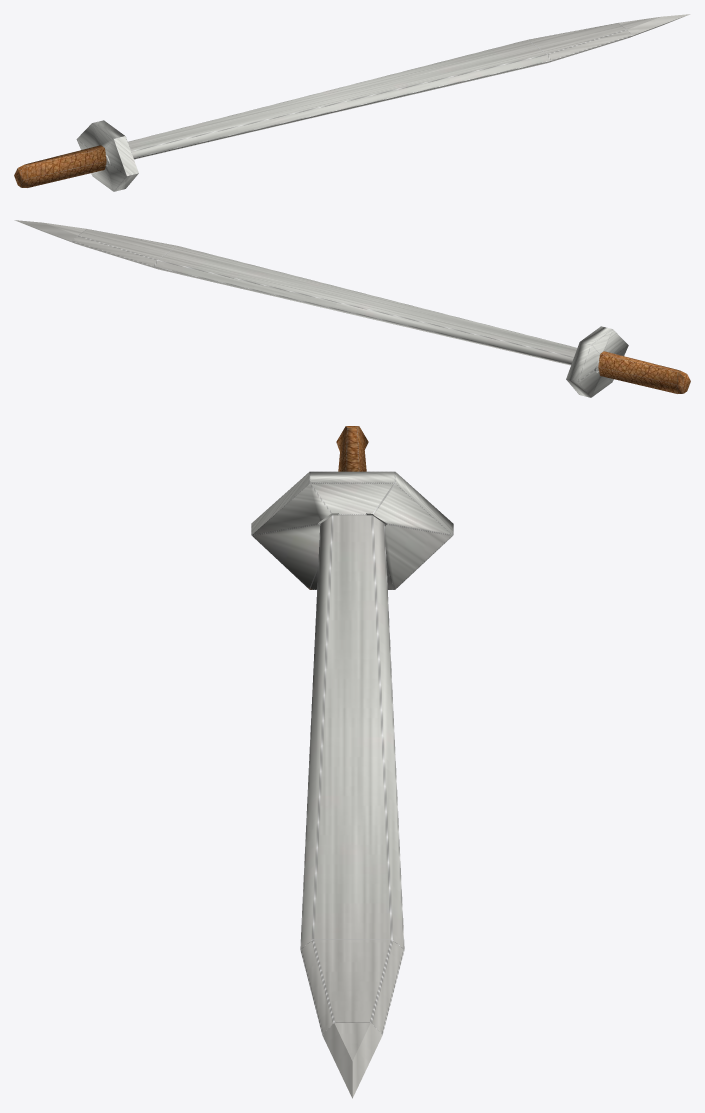
The model's file is sword.fbx.
3 renders of one model, top to bottom at view 1: azimuth 30°, elevation 25°; view 2: azimuth 150°, elevation 25°; view 3: azimuth 270°, elevation 25°, orthographic. The views are drawn at different scales.
Parts seen in each view (by area): view 1: pPlane1; view 2: pPlane1; view 3: pPlane1.
Part boxes in pixels (x1=…): pPlane1: x1=14, y1=14, x2=690, y2=191; pPlane1: x1=14, y1=220, x2=690, y2=397; pPlane1: x1=251, y1=426, x2=453, y2=1098.
Bounding box in the file's own units: 24.85 × 1.88 × 3.23.
